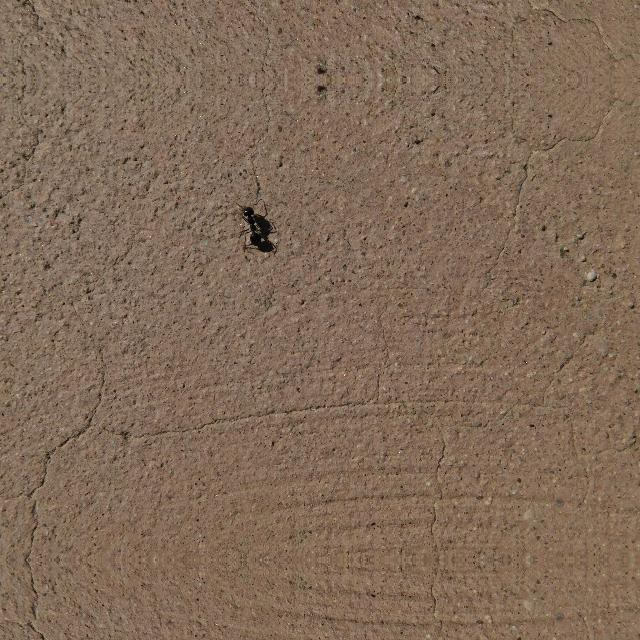Messor: (238, 203, 266, 250)
